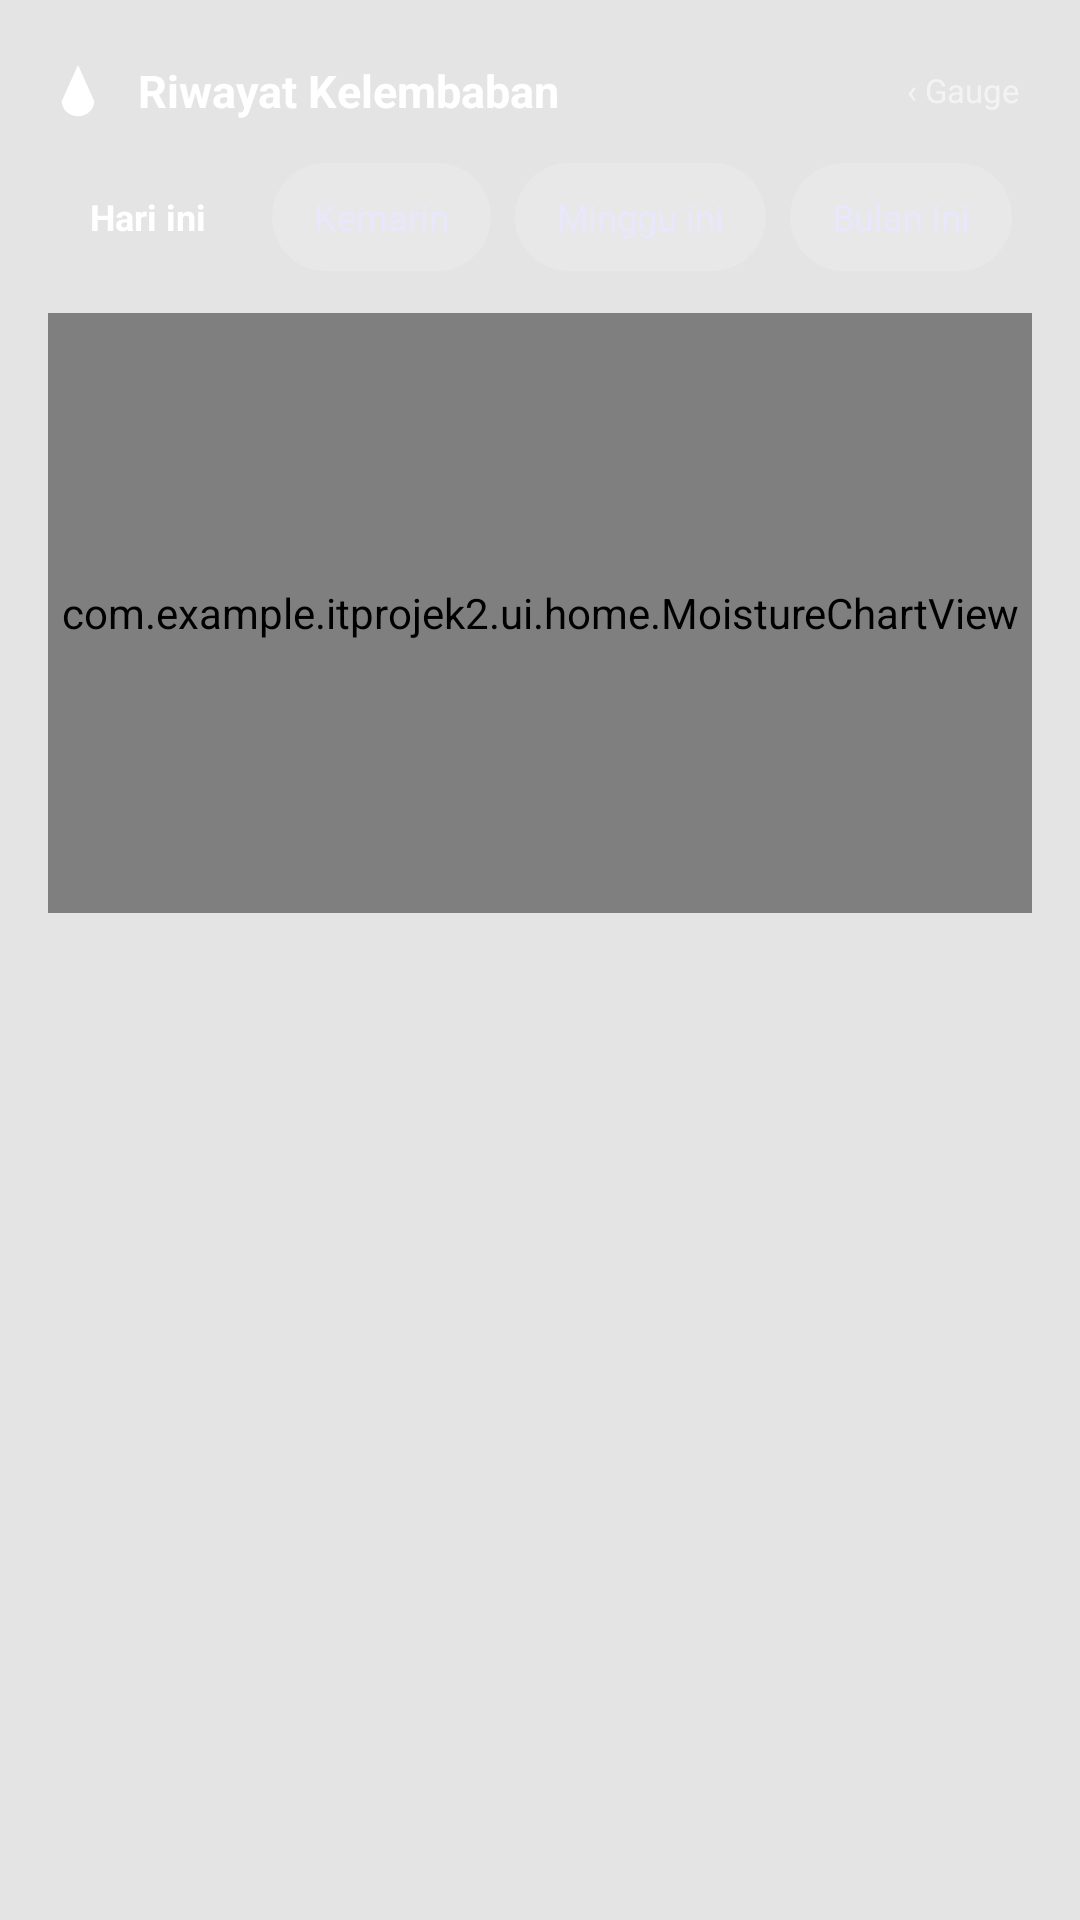

Icon bounding boxes for this 1080 × 1920 phone screenshot, format (x1, y1, x2, y2):
water drop: (62, 67, 94, 116)
